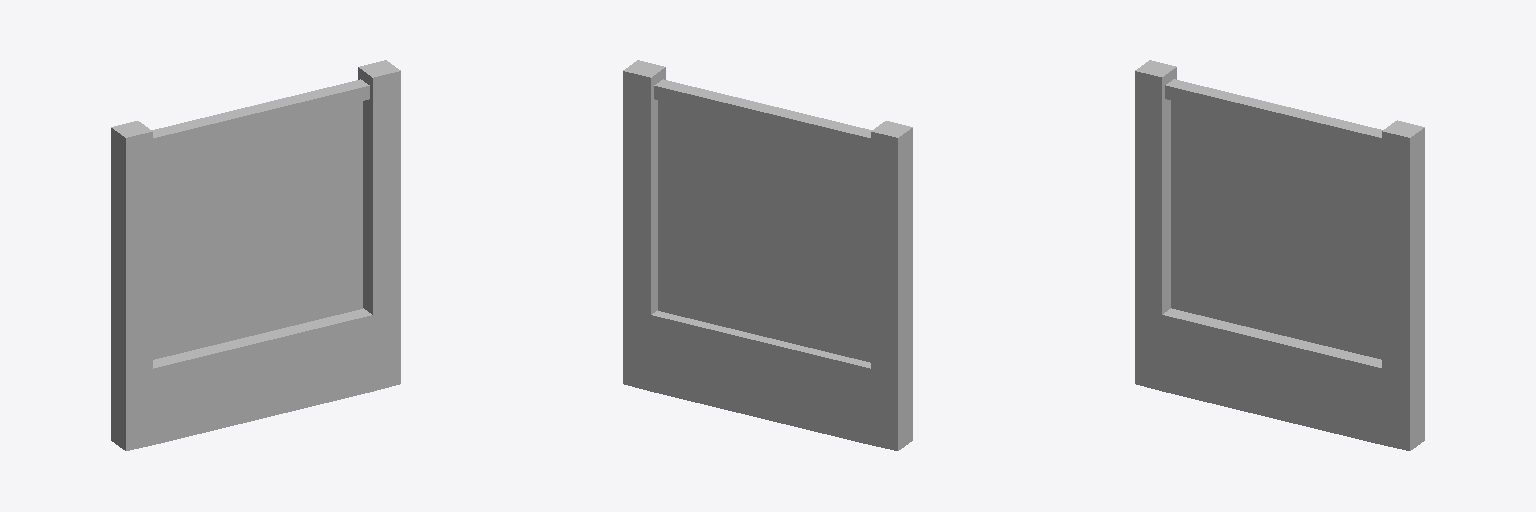
The model's file is VALLA.obj.
3 renders of one model, left to right at view 1: azimuth 30°, elevation 25°; view 2: azimuth 150°, elevation 25°; view 3: azimuth 330°, elevation 25°, orthographic.
Parts seen in each view (by area): view 1: pCube1, pPlane1; view 2: pCube1, pPlane1; view 3: pCube1, pPlane1.
Part boxes in pixels (x1,y1,x2,y2): pCube1: (111,60,400,450); pPlane1: (153,101,362,359); pCube1: (623,60,912,450); pPlane1: (658,100,870,362); pCube1: (1135,60,1424,450); pPlane1: (1171,101,1381,359).
Size of the model in its own units: 219 by 238 by 20.48.